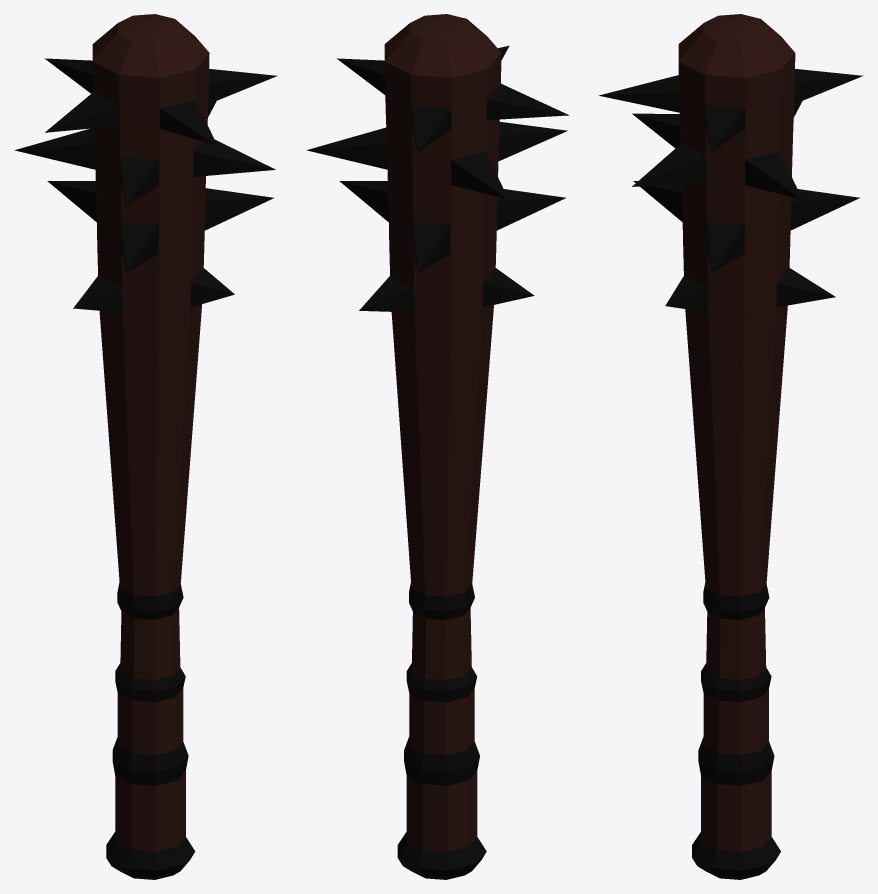
The model's file is Club.glb.
3 renders of one model, left to right at view 1: azimuth 30°, elevation 25°; view 2: azimuth 150°, elevation 25°; view 3: azimuth 270°, elevation 25°, orthographic.
Parts seen in each view (by area): view 1: Club_Cylinder; view 2: Club_Cylinder; view 3: Club_Cylinder.
Part boxes in pixels (box(x1,y1,x2,y2)): Club_Cylinder: box(14, 14, 277, 879); Club_Cylinder: box(307, 14, 568, 879); Club_Cylinder: box(599, 14, 863, 879).
Bounding box in the file's own units: 0.8207 × 2.83 × 0.8082.
